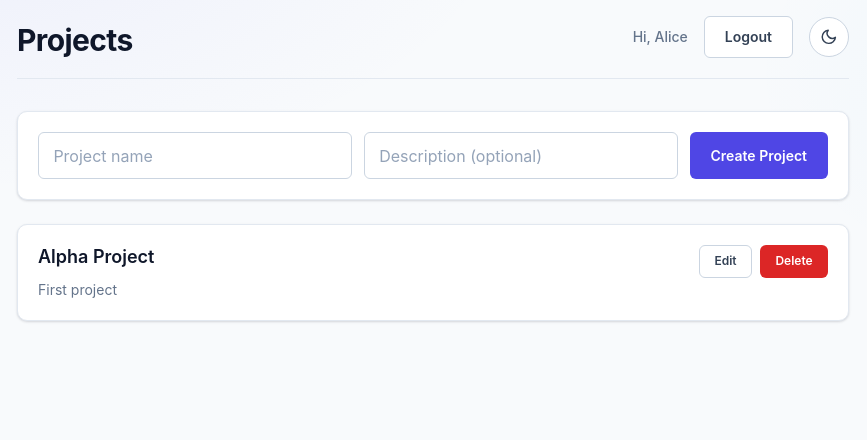
Scenario: Projects page › enters edit mode and saves updated project
Step 1. Click the button "Edit" → [726, 262], box [699,245,752,278]
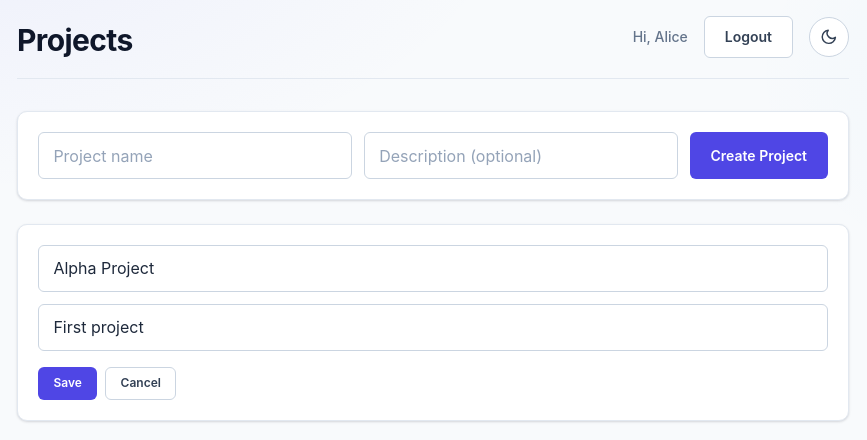
Step 2. Replace the text in the 1st field showing "Alpha Project" with "Alpha Updated" → [433, 268], box [38,245,828,292]
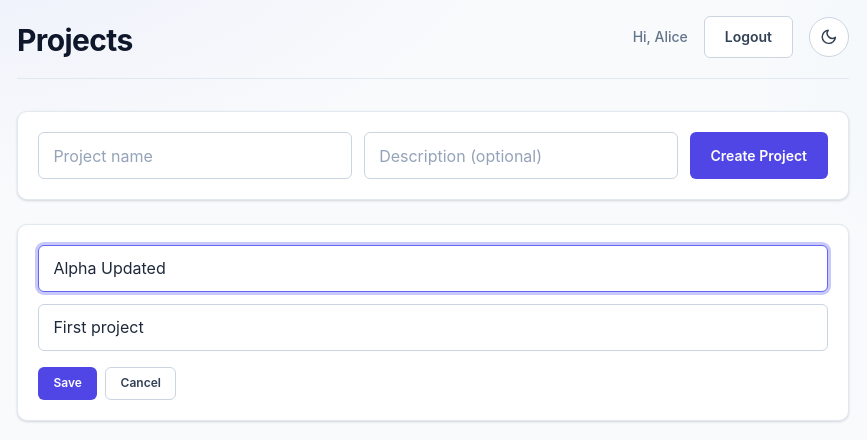
Step 3. Click the button "Save" → [68, 383], box [38,367,97,400]
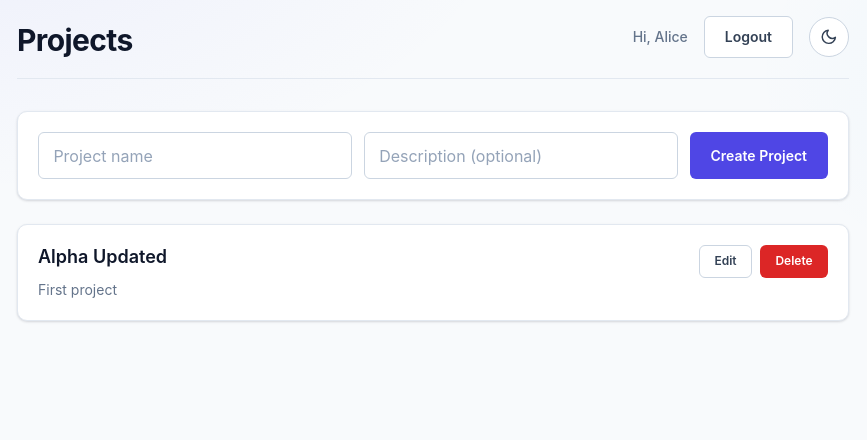
Check: the link "Alpha Updated" is shown, box [38,245,167,269]
